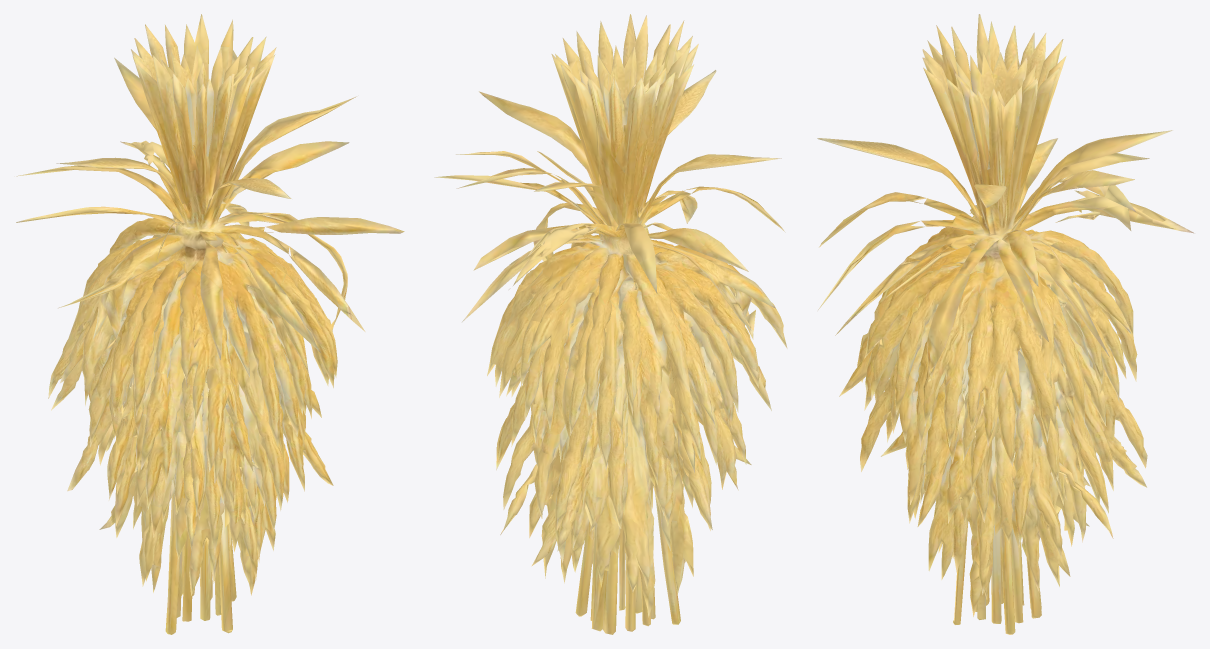
Rendered from rice-bundle.glb.
3 views of the same model, side by side, from view 1: azimuth 30°, elevation 25°; view 2: azimuth 150°, elevation 25°; view 3: azimuth 270°, elevation 25° (orthographic).
Visible parts, largest first — view 1: Mesh_0.002; view 2: Mesh_0.002; view 3: Mesh_0.002.
Part boxes in pixels (x1,y1,x2,y2): Mesh_0.002: (16, 14, 404, 634); Mesh_0.002: (434, 14, 787, 634); Mesh_0.002: (817, 14, 1194, 634).
Bounding box in the file's own units: 0.1733 × 0.3 × 0.1767.
1 material, 1 textured.
